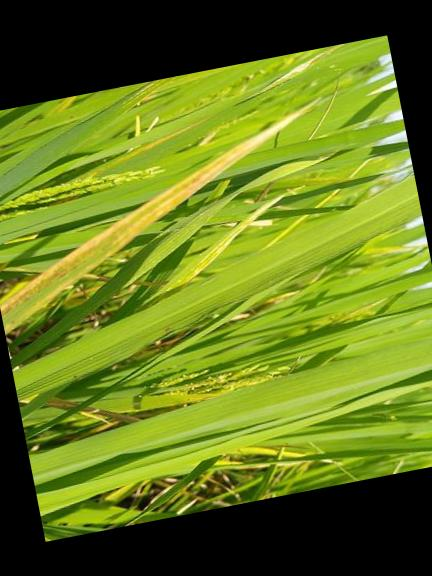Leaf Streak: (0, 99, 322, 334), (39, 394, 90, 410), (79, 406, 137, 420)
